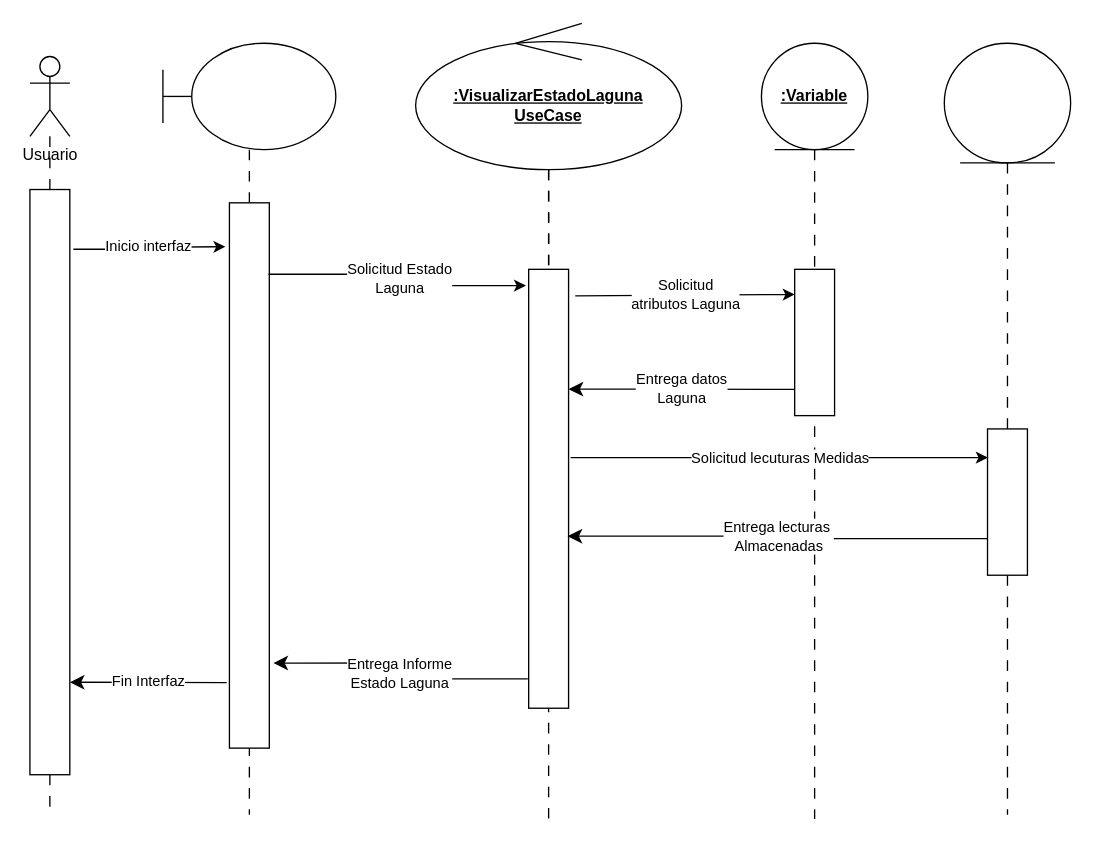
Image size: 1095x854. Some labels were removed from this diagram. Here are the shapes that lost their labels. From the top down, the centre of each, then its label:
At (249,96): ":EstadoLaguna Panel".
At (1007,102): ":Medicion".
